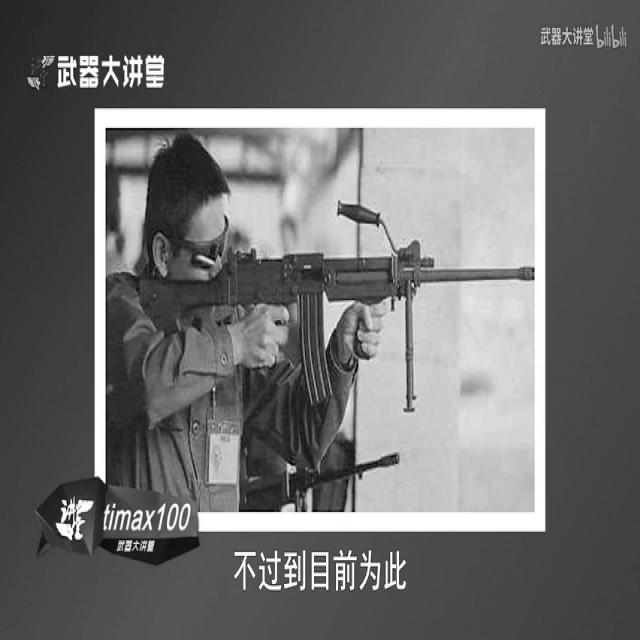Sniper: (101, 117, 525, 540)
